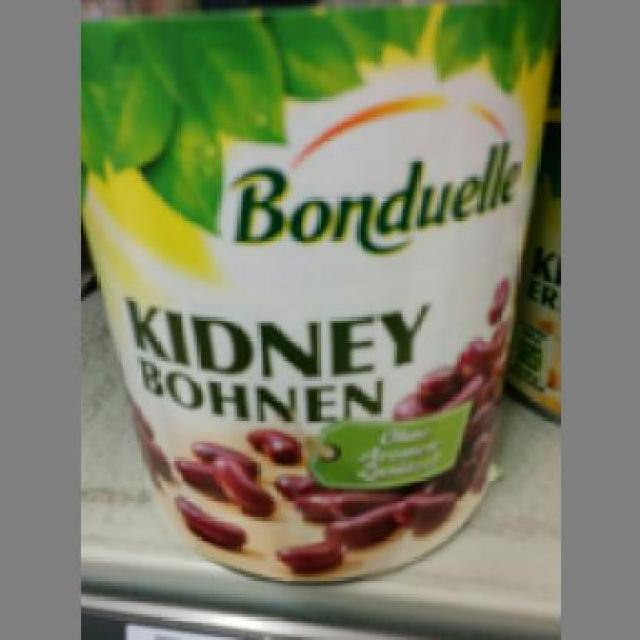Beans: (77, 6, 550, 580)
